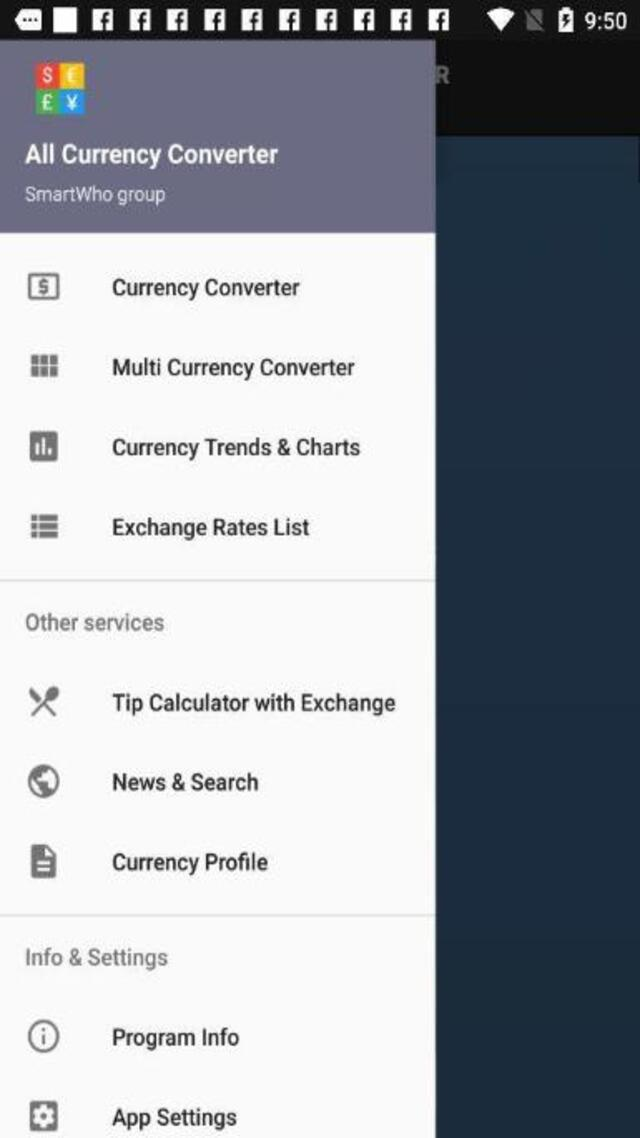Icon: (27, 1018, 59, 1052), (27, 764, 59, 797), (29, 686, 61, 716), (29, 844, 57, 878), (28, 1100, 58, 1130), (28, 432, 58, 462), (27, 272, 59, 300), (29, 512, 57, 537), (31, 352, 59, 377)
Image: (35, 63, 85, 115)
Text: (25, 140, 278, 168), (112, 692, 396, 716), (112, 436, 360, 460), (110, 356, 354, 380), (112, 516, 310, 540), (110, 276, 300, 300), (113, 850, 269, 875), (25, 946, 168, 971), (113, 1026, 239, 1051), (112, 1106, 237, 1131), (111, 772, 258, 793), (24, 185, 166, 206), (25, 612, 165, 632)
